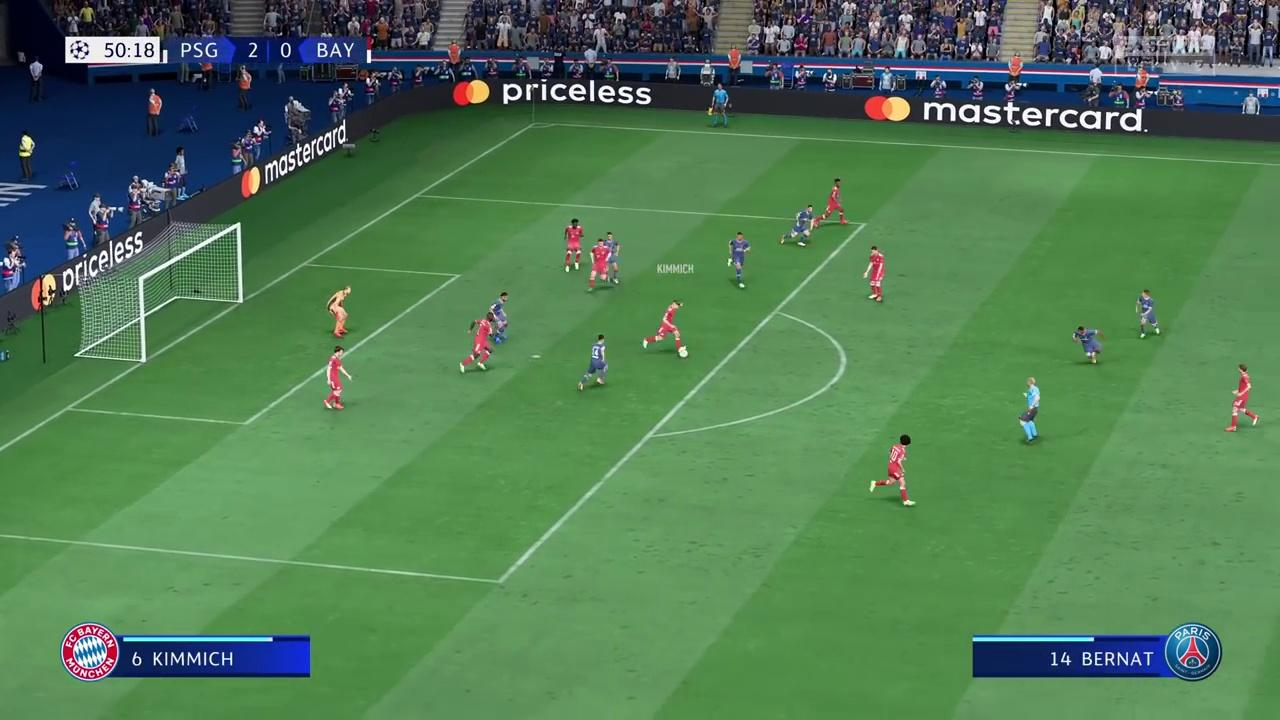scoreboard: (167, 35, 376, 64)
timestamp: (64, 34, 162, 67)
